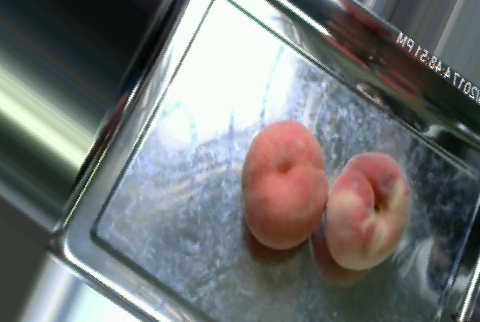Peach: (322, 149, 413, 272), (243, 118, 328, 249)
